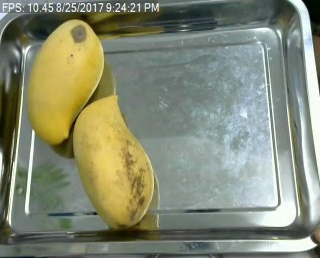Mango: (71, 92, 156, 232), (24, 19, 106, 142)
